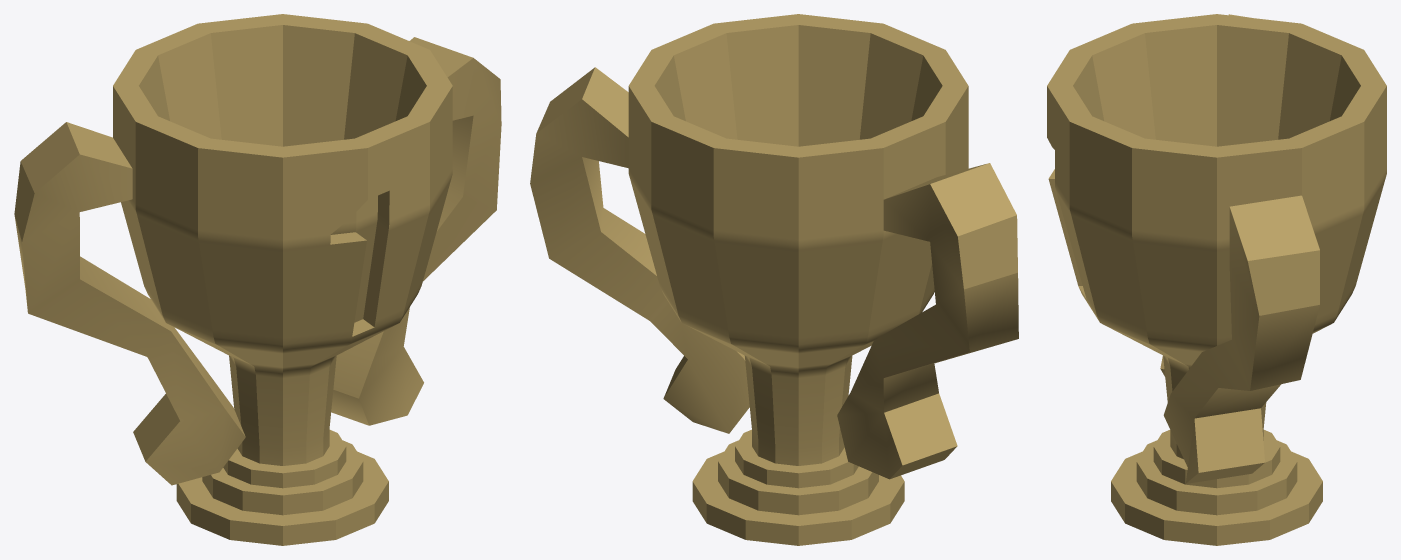
Rendered from points2.fbx.
3 views of the same model, side by side, from view 1: azimuth 30°, elevation 25°; view 2: azimuth 150°, elevation 25°; view 3: azimuth 270°, elevation 25° (orthographic).
Visible parts, largest first — view 1: trofeo; view 2: trofeo; view 3: trofeo.
Boxes of the visible parts, box(x1,y1,x2,y2) form: trofeo: box(14, 14, 501, 545); trofeo: box(530, 14, 1018, 545); trofeo: box(1047, 14, 1386, 545).
Size of the model in its own units: 3.26 by 2.7 by 2.
